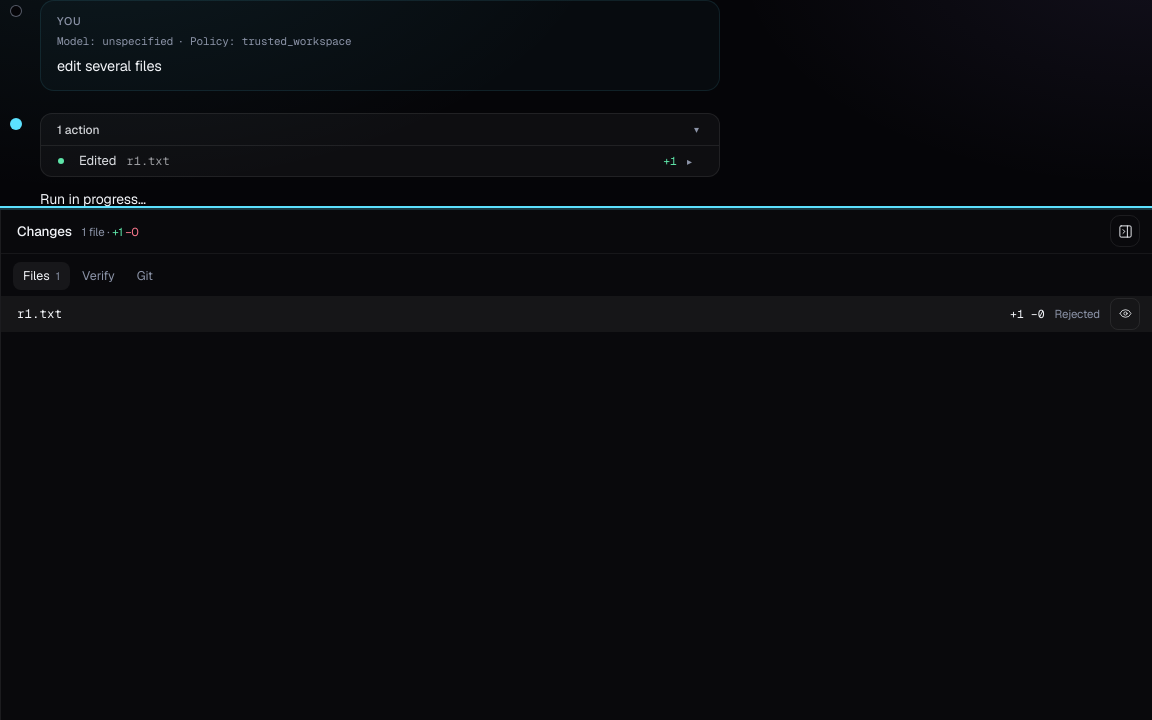
Test: Rejected retains View diff body (AC-08)
Expected: the text "Rejected" is shown, [1054,305,1100,323]
Click the button named "View diff".
click(1125, 314)  # box [1110,298,1140,330]
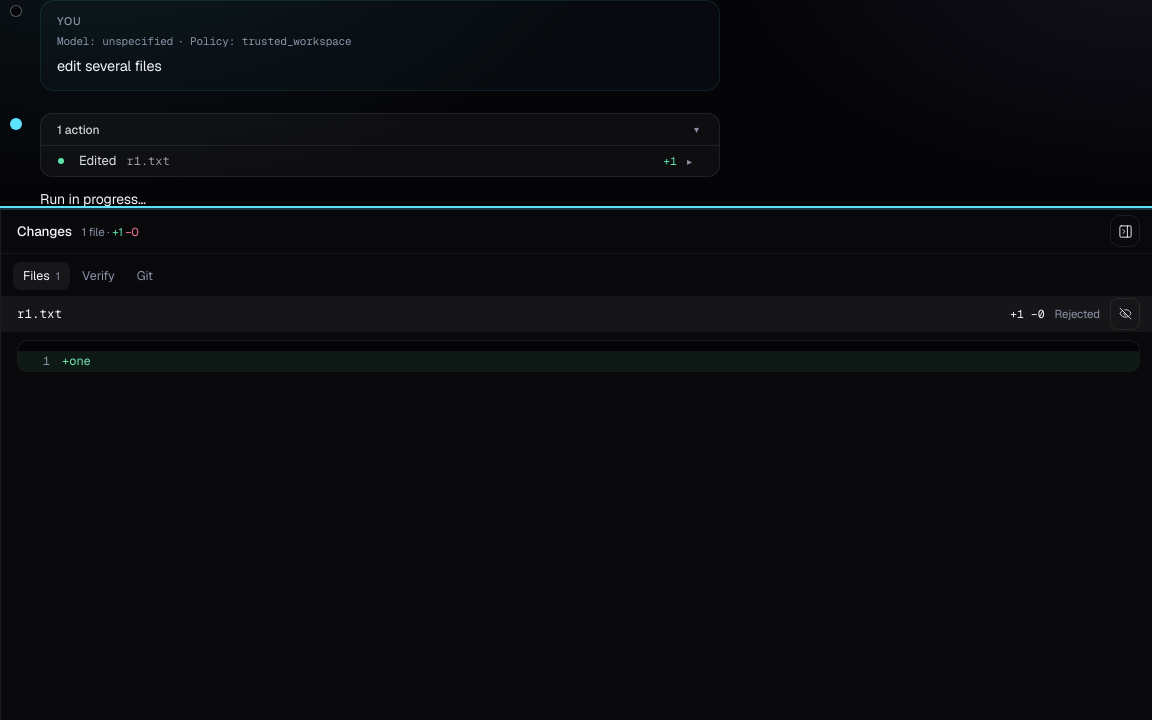
Result: the text "+one" is shown at [62,352,91,371]
